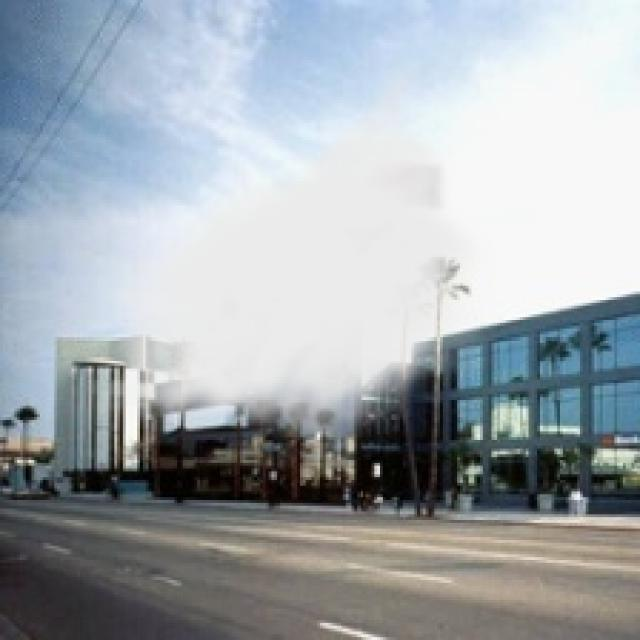Smoke: (92, 51, 494, 452)
